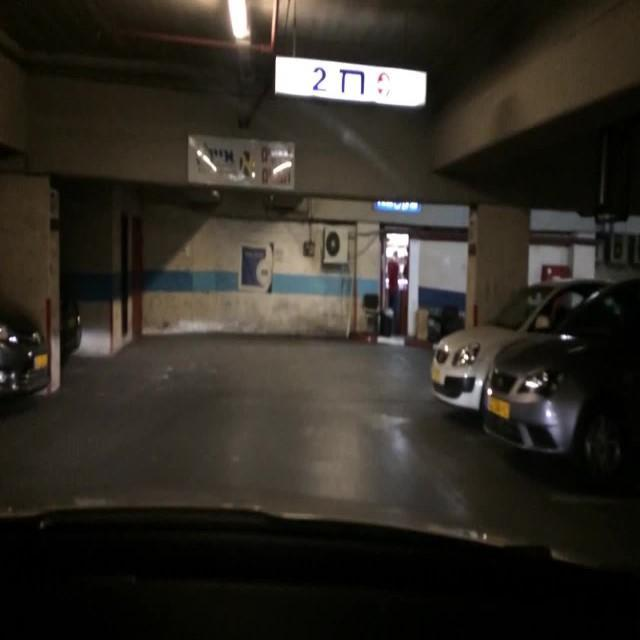normal: (410, 233, 640, 519)
